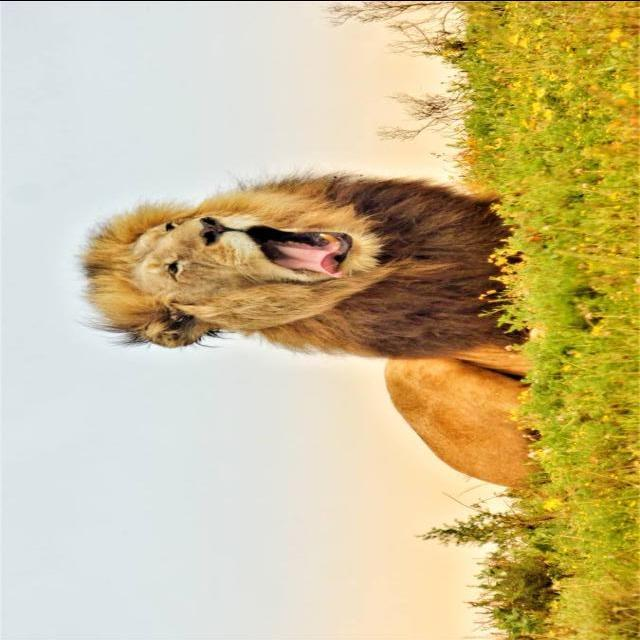lions: (43, 116, 638, 534)
